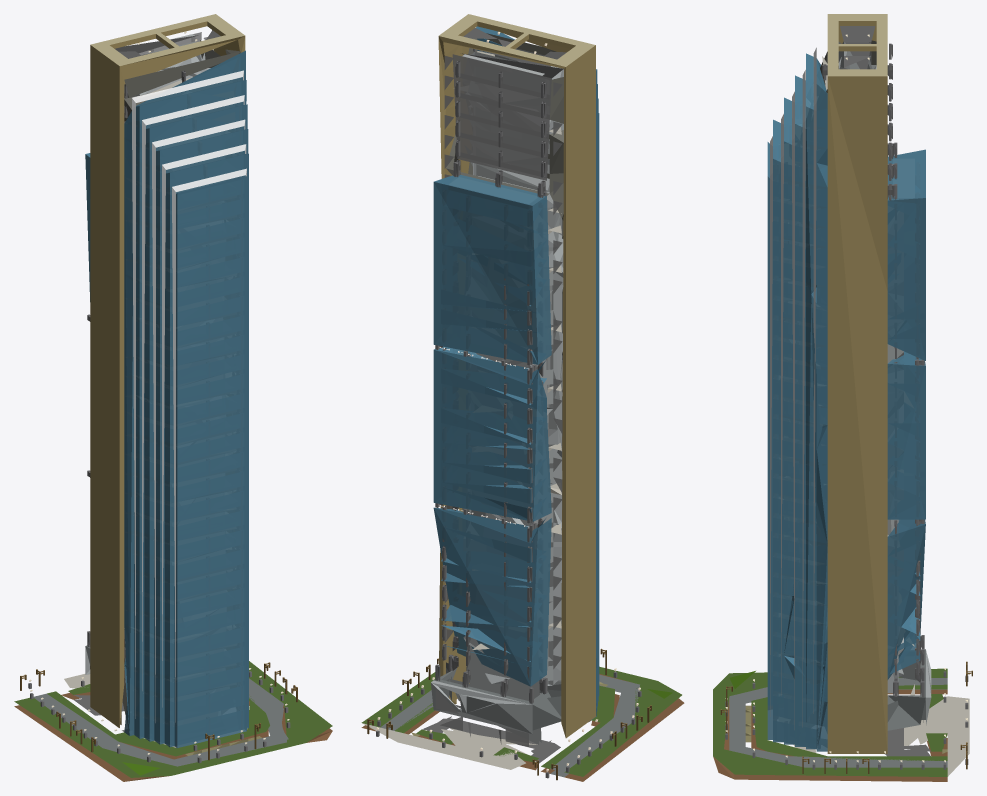
3 renders of one model, left to right at view 1: azimuth 30°, elevation 25°; view 2: azimuth 150°, elevation 25°; view 3: azimuth 270°, elevation 25°, orthographic.
Parts seen in each view (by area): view 1: Object_4, Object_3; view 2: Object_4, Object_3; view 3: Object_3, Object_4.
Part boxes in pixels (bbox=[...]): Object_4: bbox=[85, 32, 248, 748]; Object_3: bbox=[14, 14, 332, 781]; Object_4: bbox=[433, 26, 599, 746]; Object_3: bbox=[361, 14, 684, 781]; Object_3: bbox=[713, 14, 972, 781]; Object_4: bbox=[767, 47, 925, 751].
Size of the model in its own units: 47.01 by 138 by 47.63.
